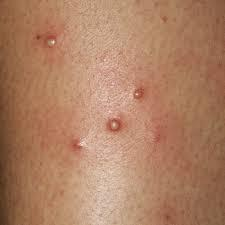folliculitis: (104, 114, 128, 139), (41, 31, 64, 56), (128, 87, 151, 104)
papular: (68, 135, 90, 158)
